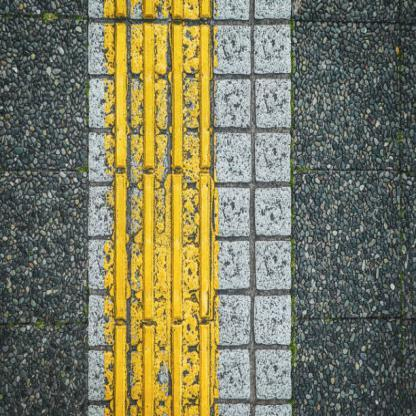podotacti: (107, 0, 218, 415)
